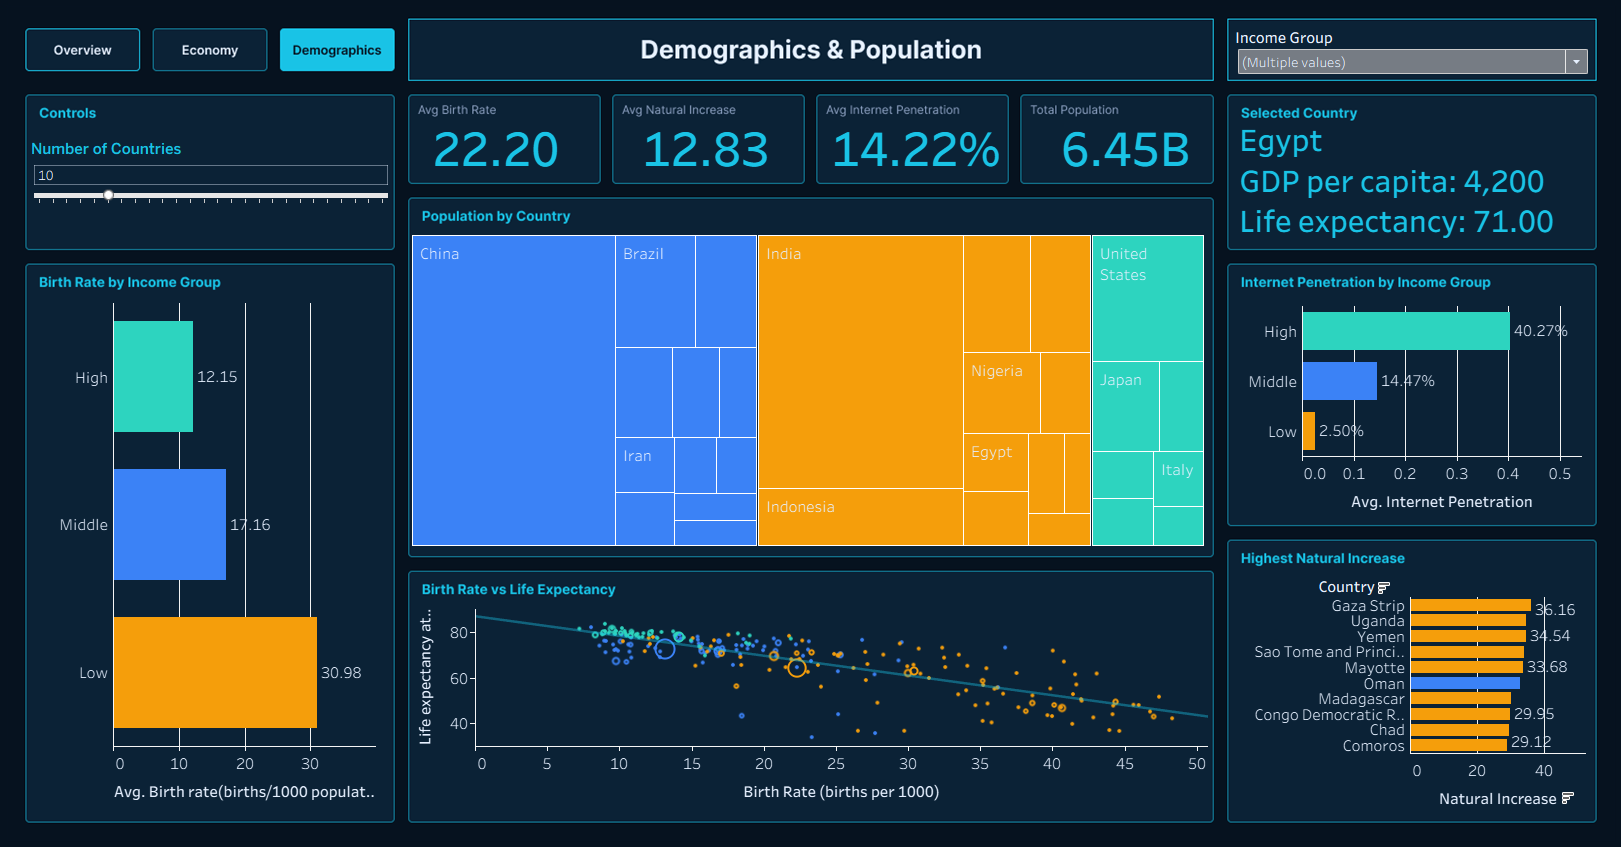

This screenshot's page, from the dashboard's own definition file:
{"tool":"tableau","page":{"name":"Dashboard 3","canvas":[1657,861],"ordinal":2},"visuals":[{"type":"image","param":"F:/DEPI/Mini Projects/Mini Project 3/D3 - Demographics.png","box":[8,8,1641,845]},{"type":"filter","title":"Treemap","param":"[federated.1wt7dck05r5s2l1c8t8xi11wyjcn].[none:Calculation_0835963271385095:nk]","box":[1252,34,356,48]},{"type":"dashboard-object","box":[30,48,117,45]},{"type":"dashboard-object","box":[160,48,117,45]},{"type":"dashboard-object","box":[290,48,117,45]},{"type":"worksheet","title":"Selected Country","mark":"Automatic","box":[1220,92,434,190]},{"type":"worksheet","title":"KPI Birth","mark":"Automatic","box":[423,124,180,62]},{"type":"worksheet","title":"KPI Natural","mark":"Automatic","box":[633,124,180,62]},{"type":"worksheet","title":"KPI Internet","mark":"Automatic","box":[843,124,180,62]},{"type":"worksheet","title":"KPI Population","mark":"Automatic","box":[1053,124,180,62]},{"type":"parameter","param":"[Parameters].[Parameter 0835963268968449]","box":[48,147,360,76]},{"type":"worksheet","title":"Treemap","mark":"Automatic","box":[424,237,801,321]},{"type":"worksheet","title":"Birth by Income","mark":"Automatic","rows":["Calculation_0835963271385095"],"cols":["Birth rate(births/1000 population)"],"box":[50,310,343,506]},{"type":"worksheet","title":"Internet by Income","mark":"Automatic","rows":["Calculation_0835963271385095"],"cols":["Calculation_0835963272548362"],"box":[1239,313,360,213]},{"type":"worksheet","title":"Natural Increase Top","mark":"Automatic","rows":["Country"],"cols":["Calculation_0835963272609803"],"box":[1267,584,336,239]},{"type":"worksheet","title":"Birth vs Life","mark":"Automatic","rows":["Life expectancy at birth(years)"],"cols":["Birth rate(births/1000 population)"],"box":[424,616,801,200]}]}

Visuals, with their boxes in screenshot pixels (x1, y1, x2, y2), scaled from the page's 1657x861 canvas onto the 1621x847 screenshot:
image: locate(8, 8, 1613, 839)
"Treemap" filter: locate(1225, 33, 1573, 81)
dashboard-object: locate(29, 47, 144, 91)
dashboard-object: locate(157, 47, 271, 91)
dashboard-object: locate(284, 47, 398, 91)
"Selected Country" worksheet: locate(1193, 91, 1618, 277)
"KPI Birth" worksheet: locate(414, 122, 590, 183)
"KPI Natural" worksheet: locate(619, 122, 795, 183)
"KPI Internet" worksheet: locate(825, 122, 1001, 183)
"KPI Population" worksheet: locate(1030, 122, 1206, 183)
parameter: locate(47, 145, 399, 219)
"Treemap" worksheet: locate(415, 233, 1198, 549)
"Birth by Income" worksheet: locate(49, 305, 384, 803)
"Internet by Income" worksheet: locate(1212, 308, 1564, 517)
"Natural Increase Top" worksheet: locate(1239, 575, 1568, 810)
"Birth vs Life" worksheet: locate(415, 606, 1198, 803)
